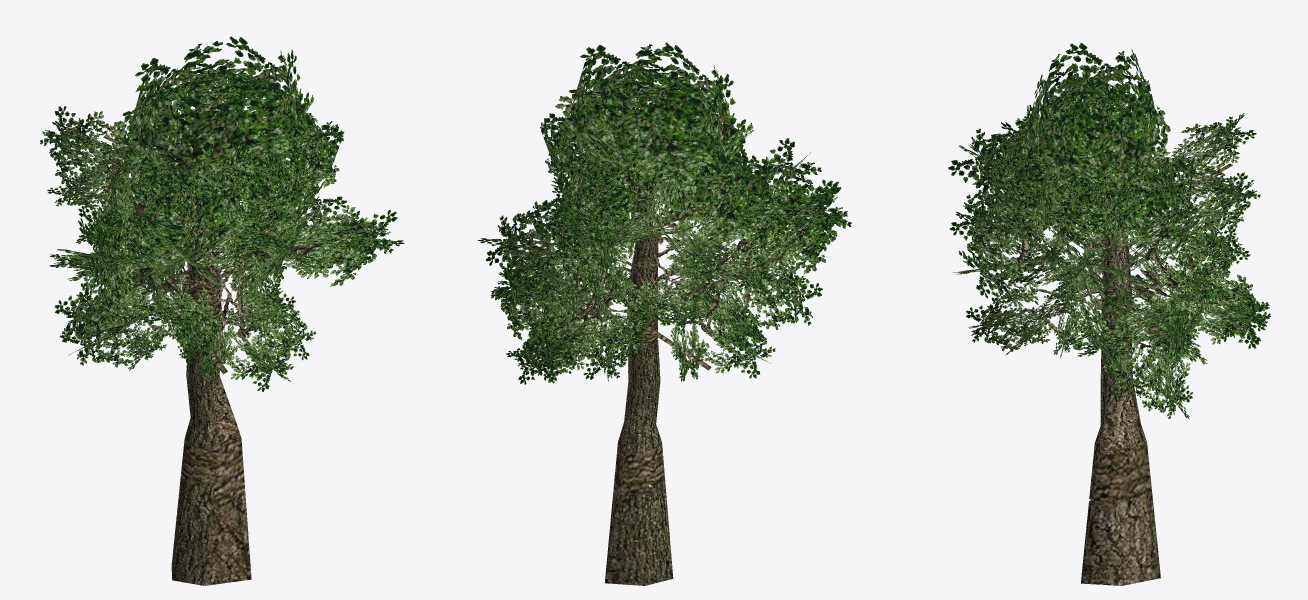
File: tree.glb
3 views of the same model, side by side, from view 1: azimuth 30°, elevation 25°; view 2: azimuth 150°, elevation 25°; view 3: azimuth 270°, elevation 25° (orthographic). The views are drawn at different scales.
Visible parts, largest first — view 1: tree; view 2: tree; view 3: tree.
Part boxes in pixels (<box>): tree: <box>40,36,404,585</box>; tree: <box>478,42,851,585</box>; tree: <box>948,43,1270,585</box>.
Size of the model in its own units: 3.44 by 4.5 by 3.06.
2 materials, 2 textured.
